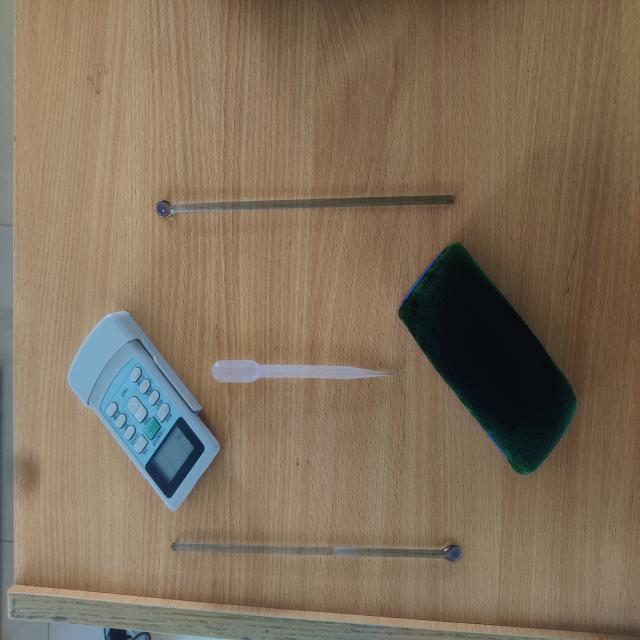Glass_Rod: (125, 482, 481, 596), (151, 148, 482, 250)
Pipette: (195, 320, 422, 410)
